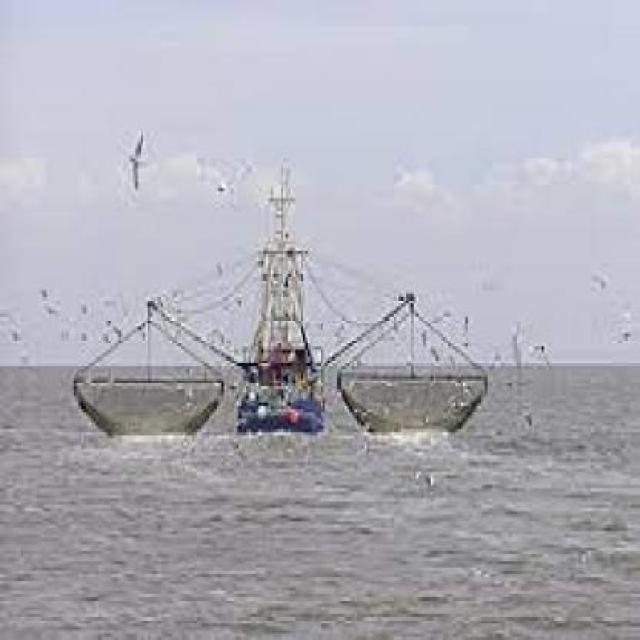fish-b: (229, 150, 331, 450)
